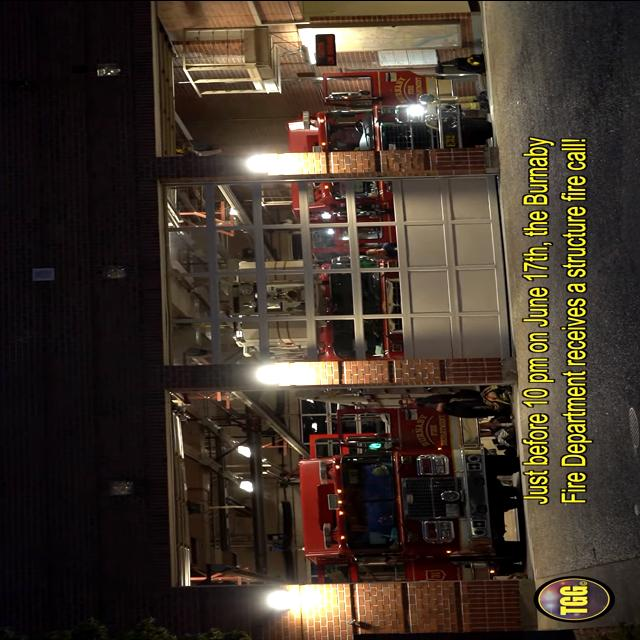emergency-vehicles: (270, 406, 528, 590), (268, 72, 516, 243)
